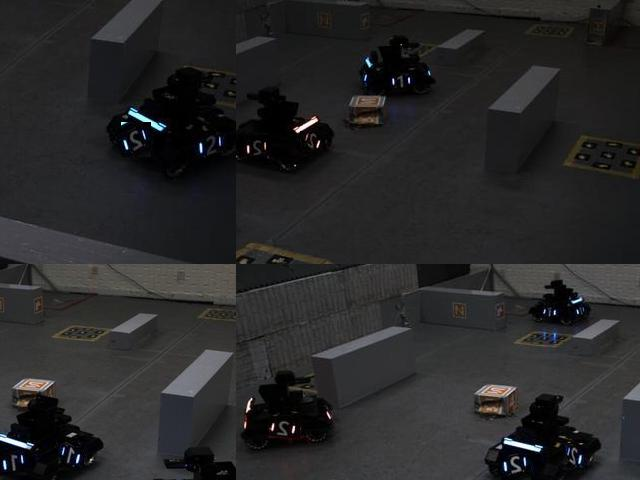armor: (121, 123, 152, 159), (501, 452, 533, 479), (0, 448, 28, 477), (59, 443, 86, 472), (196, 132, 225, 158), (243, 135, 272, 161), (564, 444, 589, 472), (269, 419, 302, 439), (387, 69, 414, 92), (300, 132, 326, 152), (540, 303, 560, 322)
